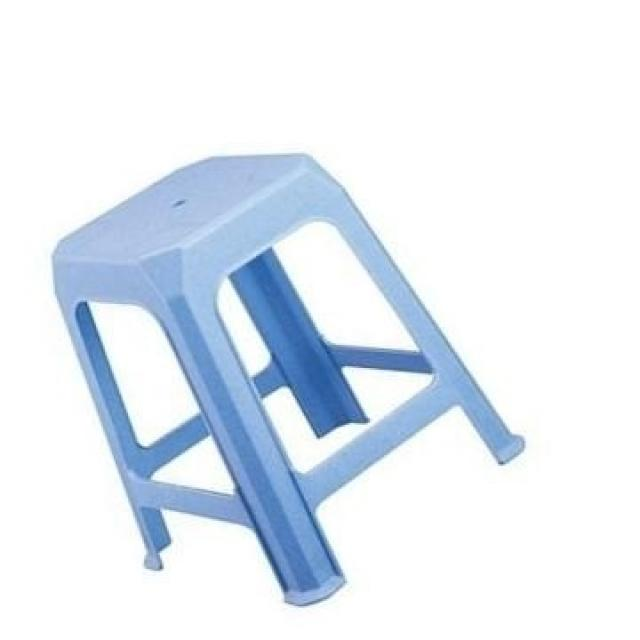Chair: (50, 153, 530, 606)
